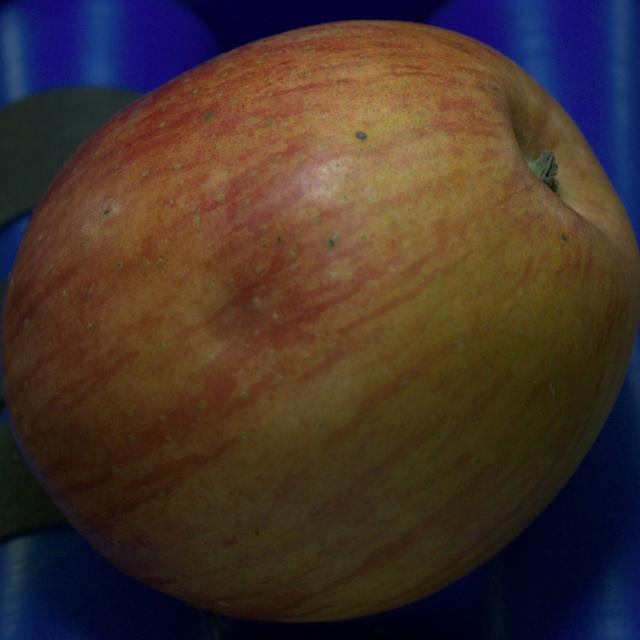apple: (2, 22, 639, 622)
bruise: (185, 247, 335, 380)
pest: (356, 132, 366, 139)
